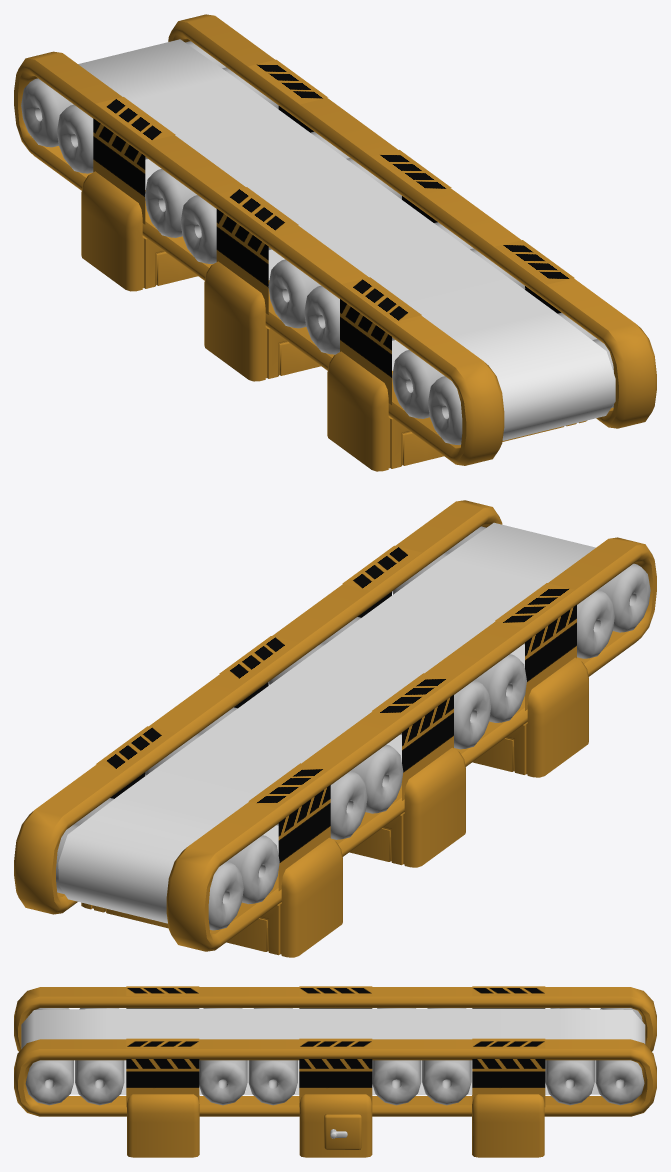
Rendered from AssemblyLines_05.fbx.
3 views of the same model, one above another, from view 1: azimuth 30°, elevation 25°; view 2: azimuth 150°, elevation 25°; view 3: azimuth 270°, elevation 25° (orthographic). The views are drawn at different scales.
Visible parts, largest first — view 1: Belt, Assembly_Sides, Assembly_Leg, Assembly_Bearings, Assembly_Decals; view 2: Belt, Assembly_Sides, Assembly_Leg, Assembly_Bearings, Assembly_Decals; view 3: Assembly_Sides, Belt, Assembly_Bearings, Assembly_Decals, Assembly_Leg, Assembly_Leg_Door.
Boxes of the visible parts, x1,y1,x2,y2 form: Belt: [78, 39, 615, 440]; Assembly_Sides: [14, 14, 656, 465]; Assembly_Leg: [81, 171, 587, 471]; Assembly_Bearings: [21, 41, 613, 444]; Assembly_Decals: [93, 59, 574, 404]; Belt: [58, 522, 595, 923]; Assembly_Sides: [14, 500, 656, 951]; Assembly_Leg: [81, 657, 588, 957]; Assembly_Bearings: [56, 526, 650, 930]; Assembly_Decals: [96, 545, 576, 890]; Assembly_Sides: [14, 987, 656, 1116]; Belt: [21, 1008, 645, 1094]; Assembly_Bearings: [25, 1008, 644, 1105]; Assembly_Decals: [126, 986, 545, 1107]; Assembly_Leg: [127, 1094, 544, 1157]; Assembly_Leg_Door: [324, 1114, 361, 1149].
Size of the model in its own units: 247 by 147 by 832.
